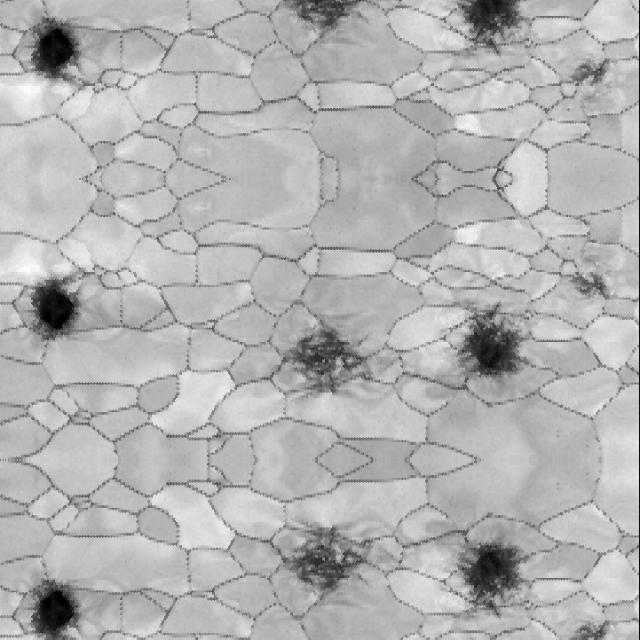good_void: (280, 311, 388, 403), (280, 519, 388, 611), (442, 307, 527, 393), (442, 529, 527, 615), (24, 263, 88, 352), (24, 8, 88, 96), (280, 0, 385, 48), (24, 570, 88, 640), (442, 0, 527, 52), (563, 267, 619, 306), (563, 53, 619, 92), (563, 616, 619, 640), (564, 106, 572, 115), (564, 245, 572, 253)
